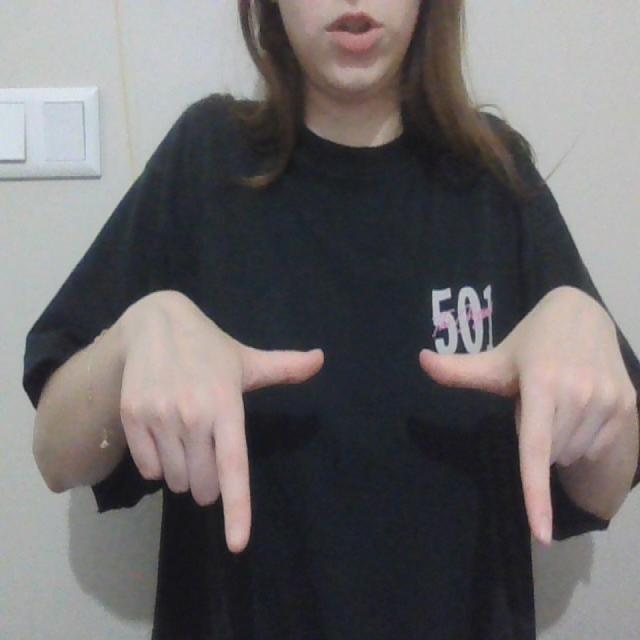Nerede: (201, 336, 562, 562)
